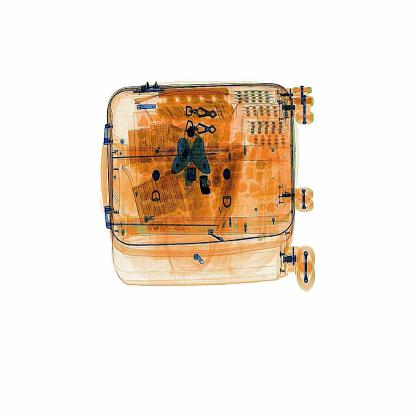pliers: (197, 172, 220, 202)
